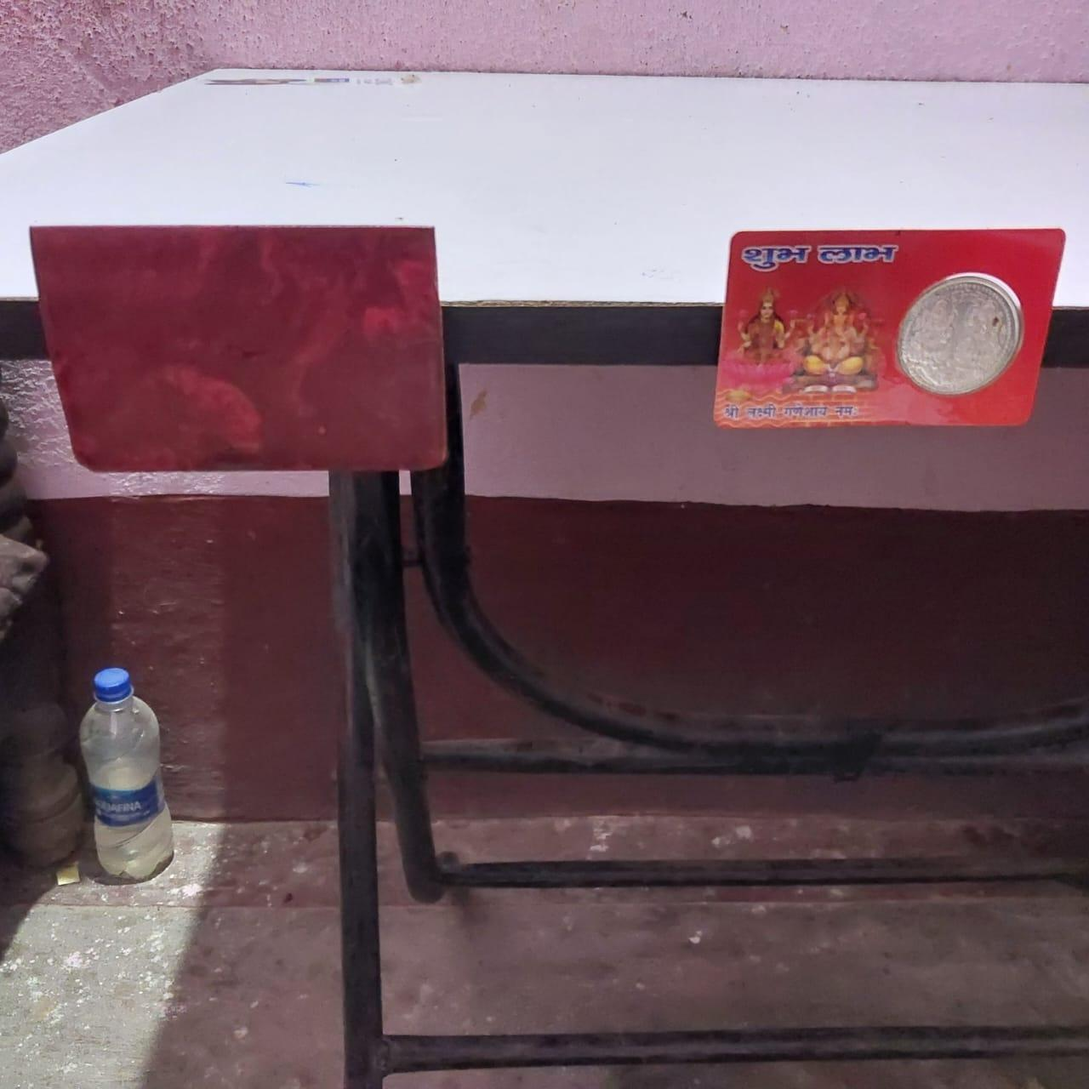blessing_card: (711, 228, 1063, 430)
wallet: (29, 222, 451, 477)
